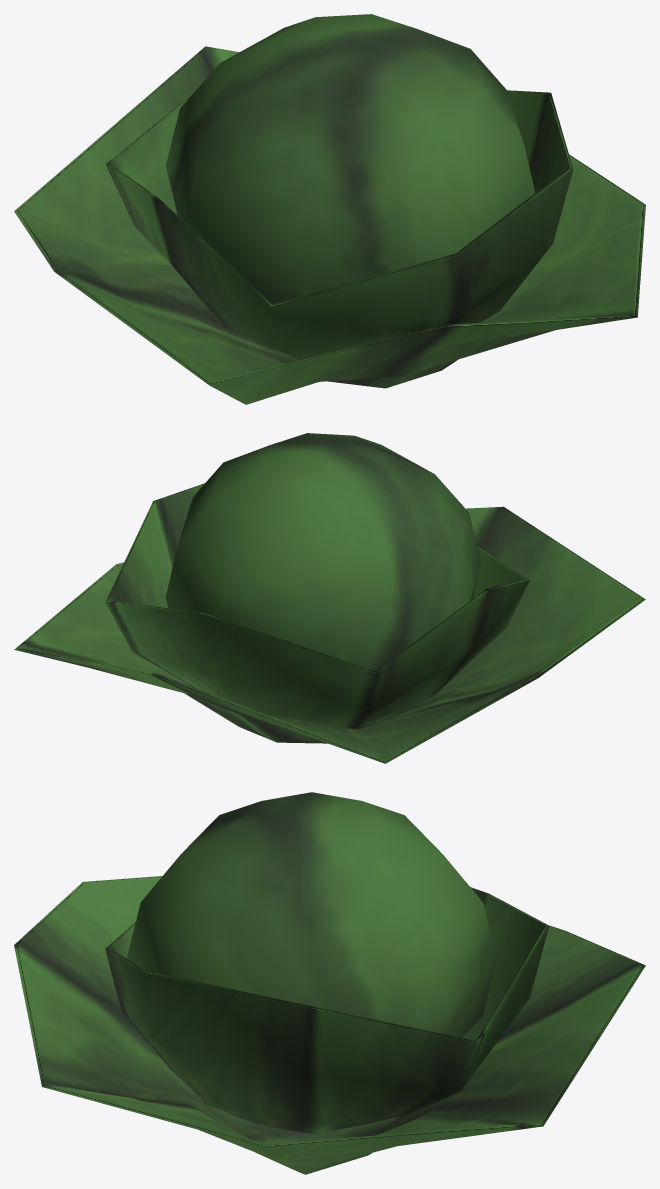
The model's file is Cabbage_Geo.fbx.
3 renders of one model, top to bottom at view 1: azimuth 30°, elevation 25°; view 2: azimuth 150°, elevation 25°; view 3: azimuth 270°, elevation 25°, orthographic. The views are drawn at different scales.
Parts seen in each view (by area): view 1: Cabbage_Geo; view 2: Cabbage_Geo; view 3: Cabbage_Geo.
Boxes of the visible parts, x1,y1,x2,y2 form: Cabbage_Geo: [14, 14, 645, 404]; Cabbage_Geo: [14, 433, 645, 763]; Cabbage_Geo: [14, 792, 645, 1174].
Size of the model in its own units: 42.63 by 25.26 by 44.59.
